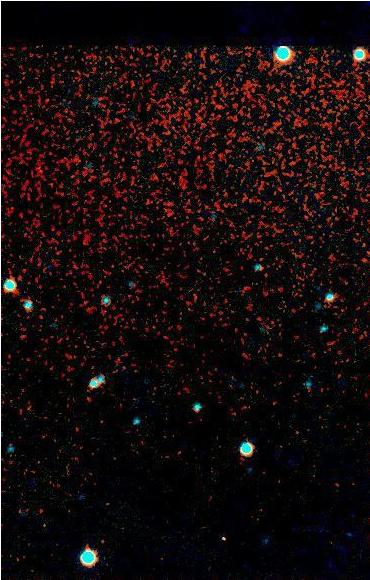star: (210, 531, 240, 561)
